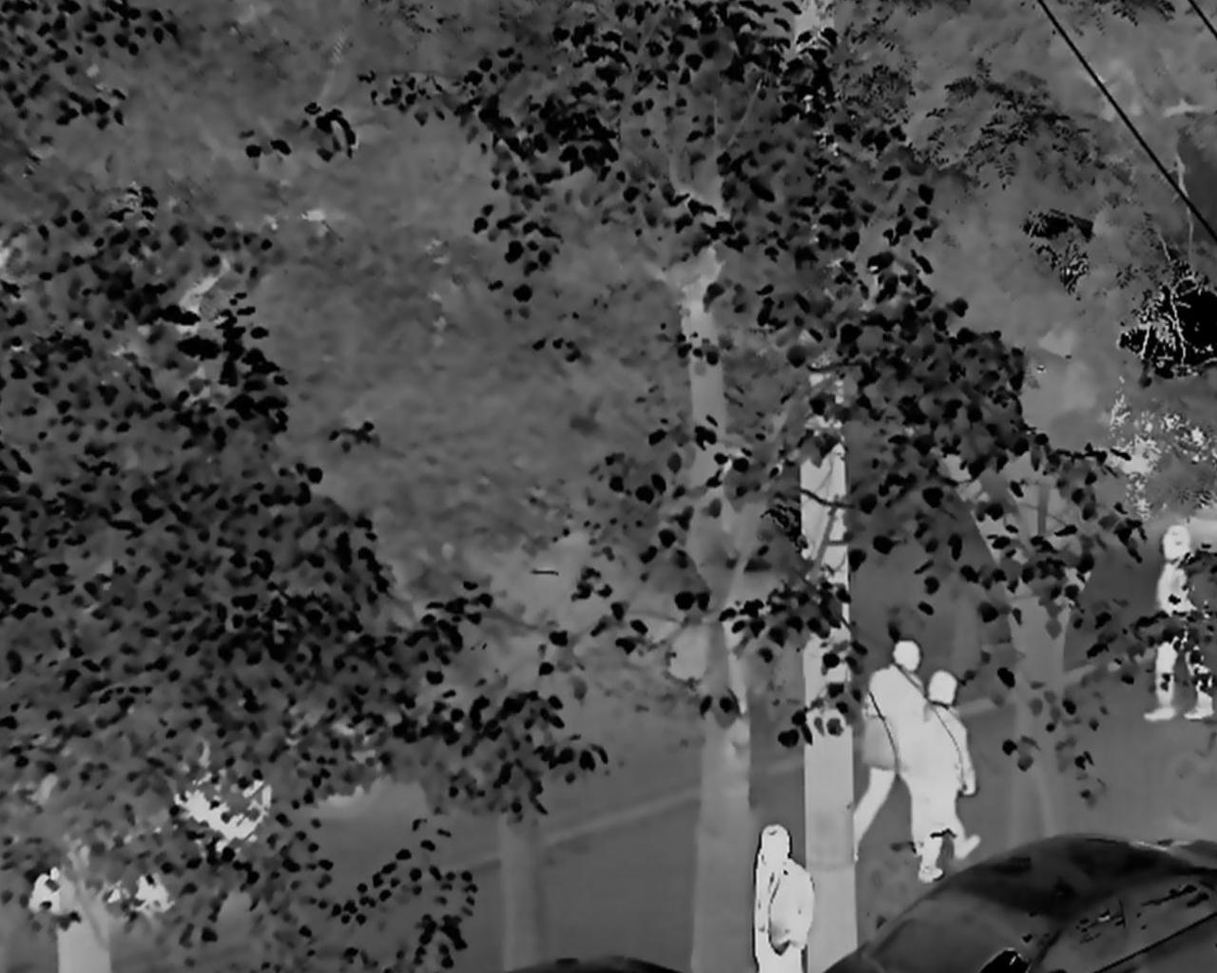person: (860, 641, 926, 856), (921, 670, 983, 886), (1155, 520, 1216, 729), (755, 827, 815, 973)
